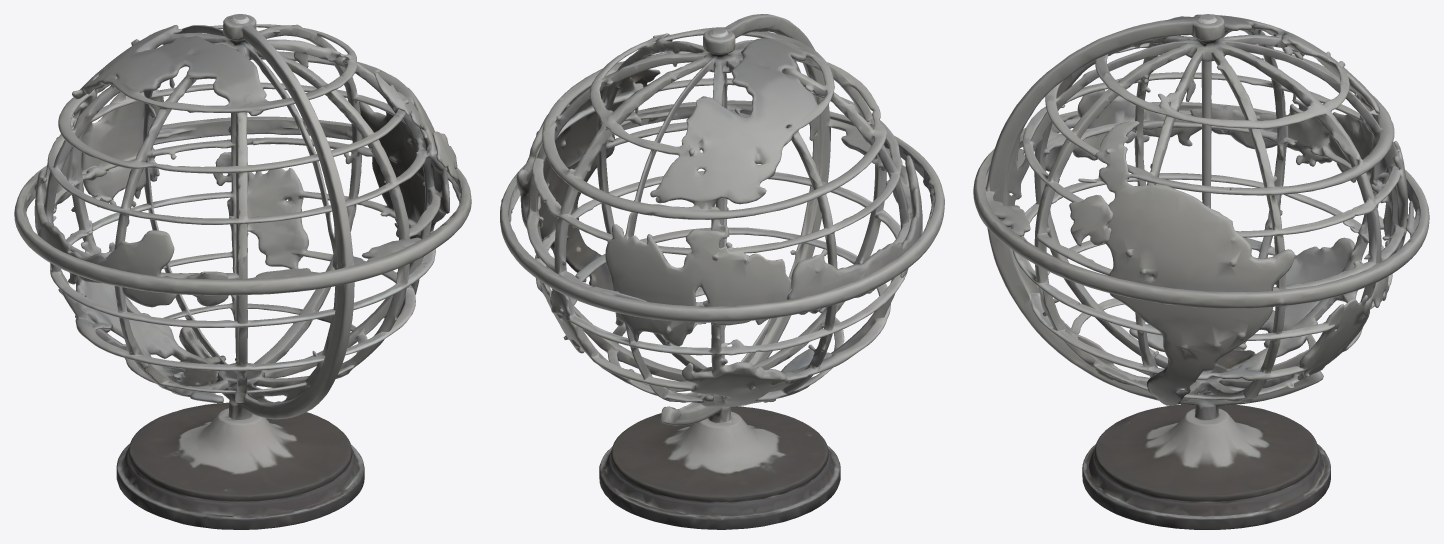
Rendered from plaza-globe-statue.glb.
3 renders of one model, left to right at view 1: azimuth 30°, elevation 25°; view 2: azimuth 150°, elevation 25°; view 3: azimuth 270°, elevation 25°, orthographic. The views are drawn at different scales.
Parts seen in each view (by area): view 1: tripo_node_7b064122-bca2-4d33-a2df-f660433ad57d; view 2: tripo_node_7b064122-bca2-4d33-a2df-f660433ad57d; view 3: tripo_node_7b064122-bca2-4d33-a2df-f660433ad57d.
Part boxes in pixels (x1=…): tripo_node_7b064122-bca2-4d33-a2df-f660433ad57d: x1=14, y1=14, x2=471, y2=529; tripo_node_7b064122-bca2-4d33-a2df-f660433ad57d: x1=500, y1=14, x2=944, y2=529; tripo_node_7b064122-bca2-4d33-a2df-f660433ad57d: x1=973, y1=14, x2=1429, y2=529.
Bounding box in the file's own units: 3.59 × 4 × 3.58.
1 material, 1 textured.
